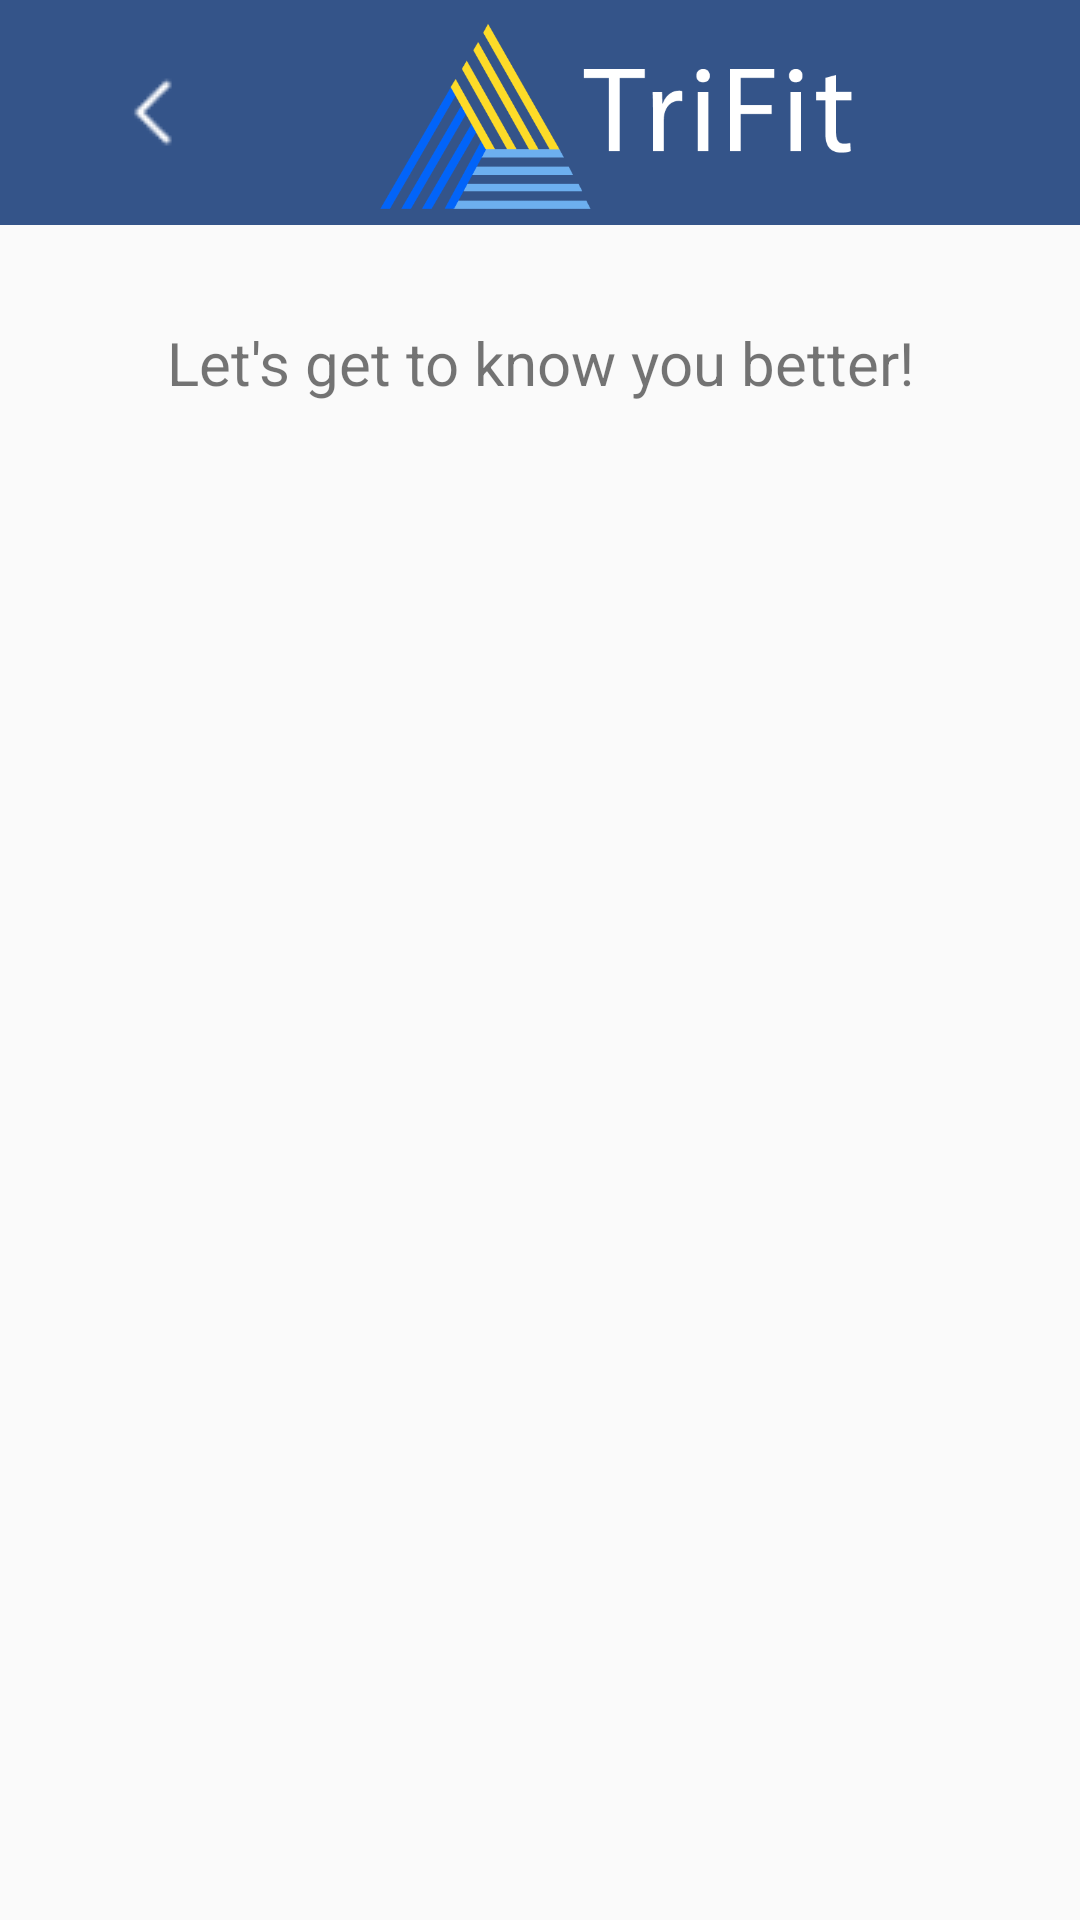

Where to tap for icons on this 1080×1920 app screen, as [x,y]:
back arrow: [153,112]
